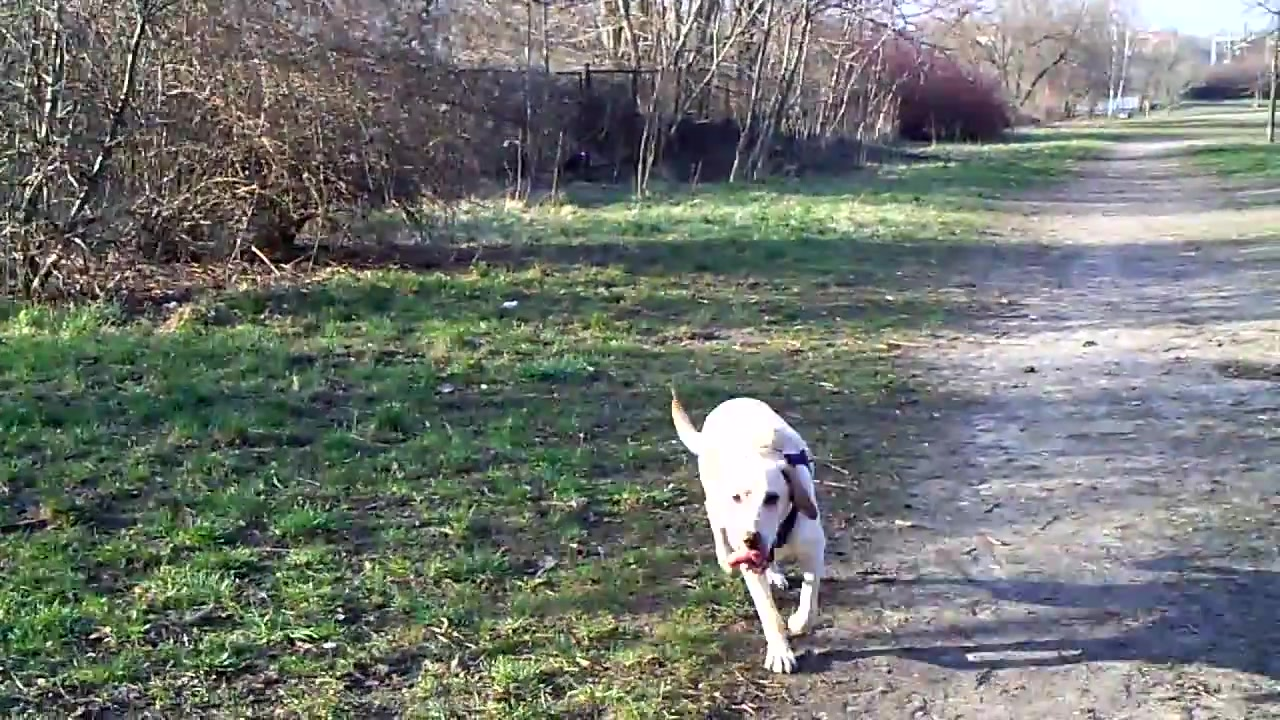dog: (667, 383, 829, 678)
